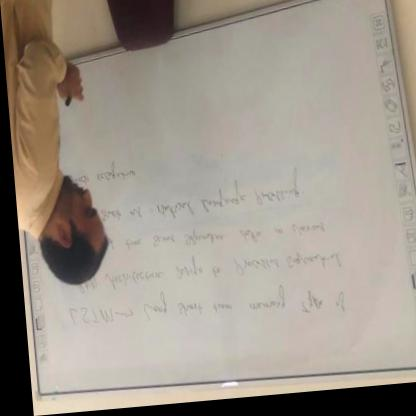Handwritten text: (54, 283, 348, 341), (98, 247, 352, 297), (92, 174, 306, 228), (117, 217, 326, 259)
Lecturer: (1, 9, 101, 294)
